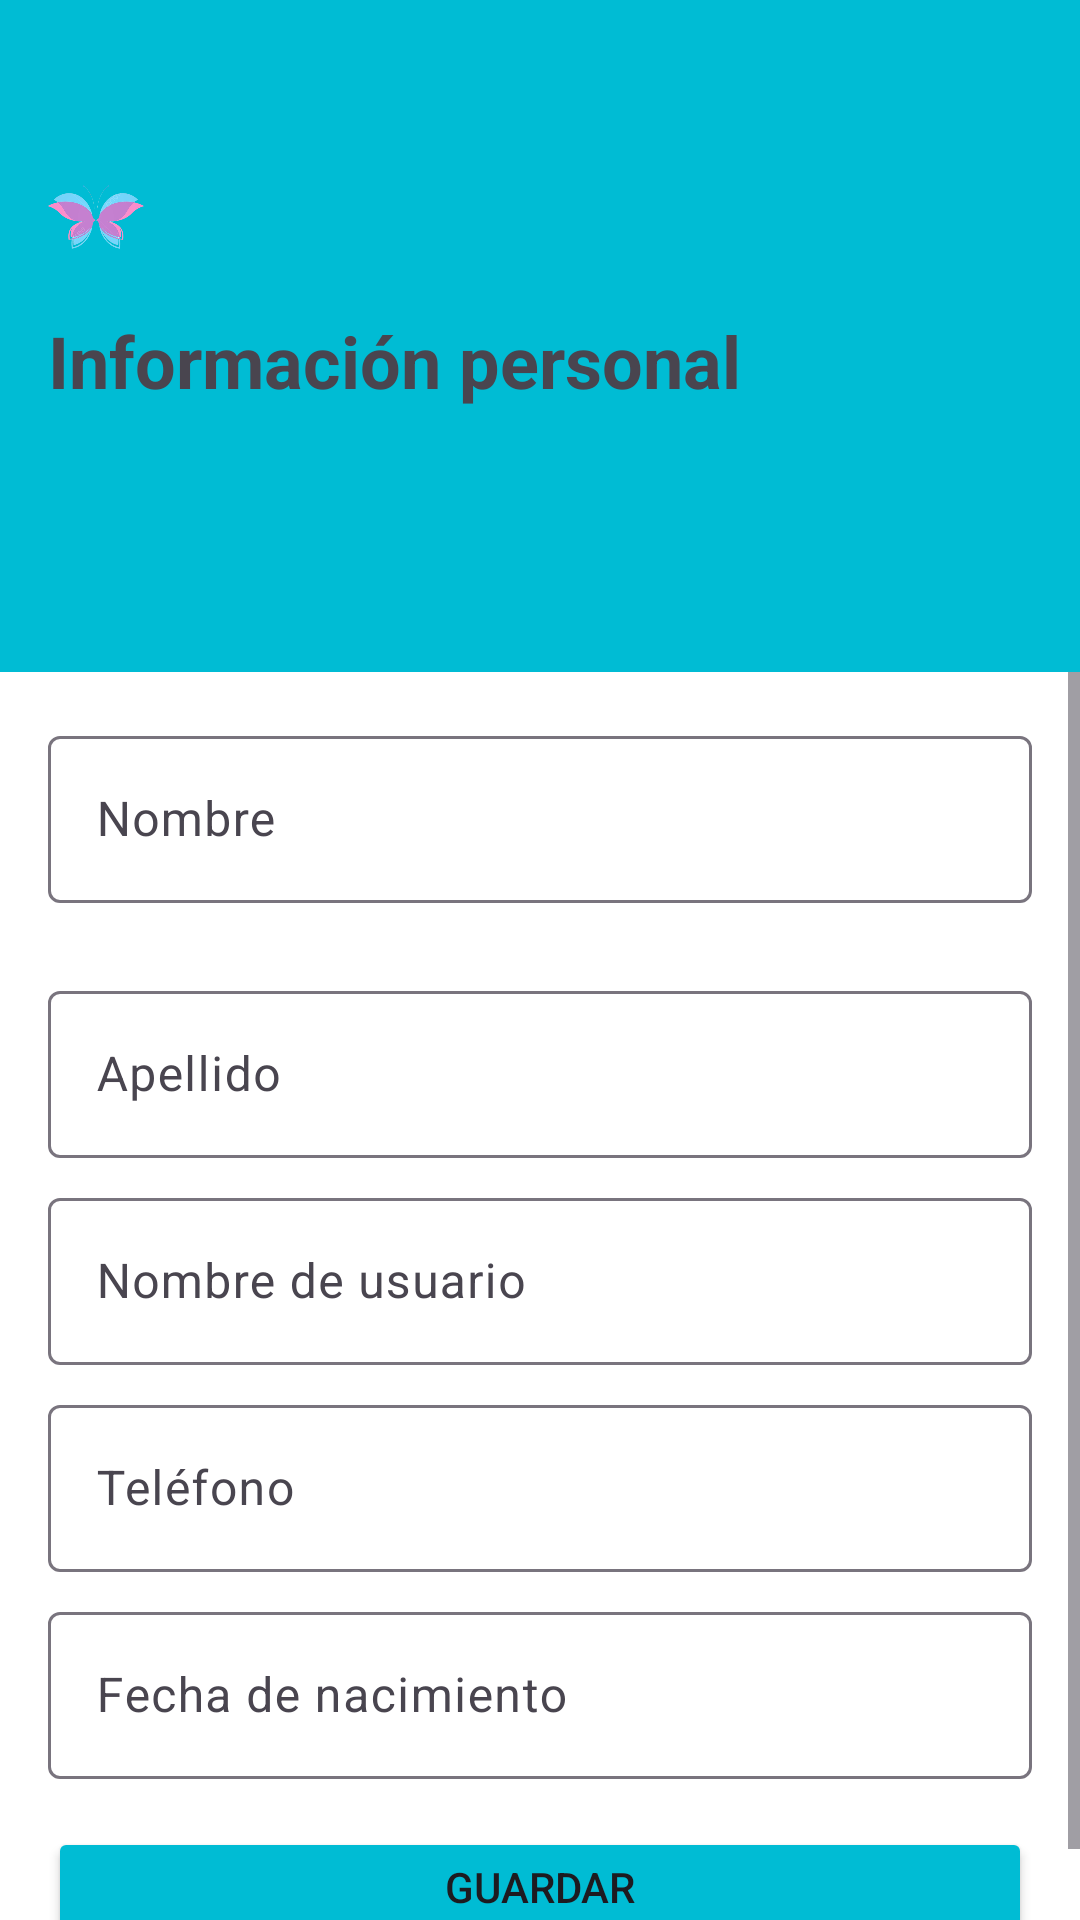

Screen size 1080 × 1920. Icon name, then its box in pixels as (x1, y1, x2, y2):
butterfly: (48, 185, 144, 249)
